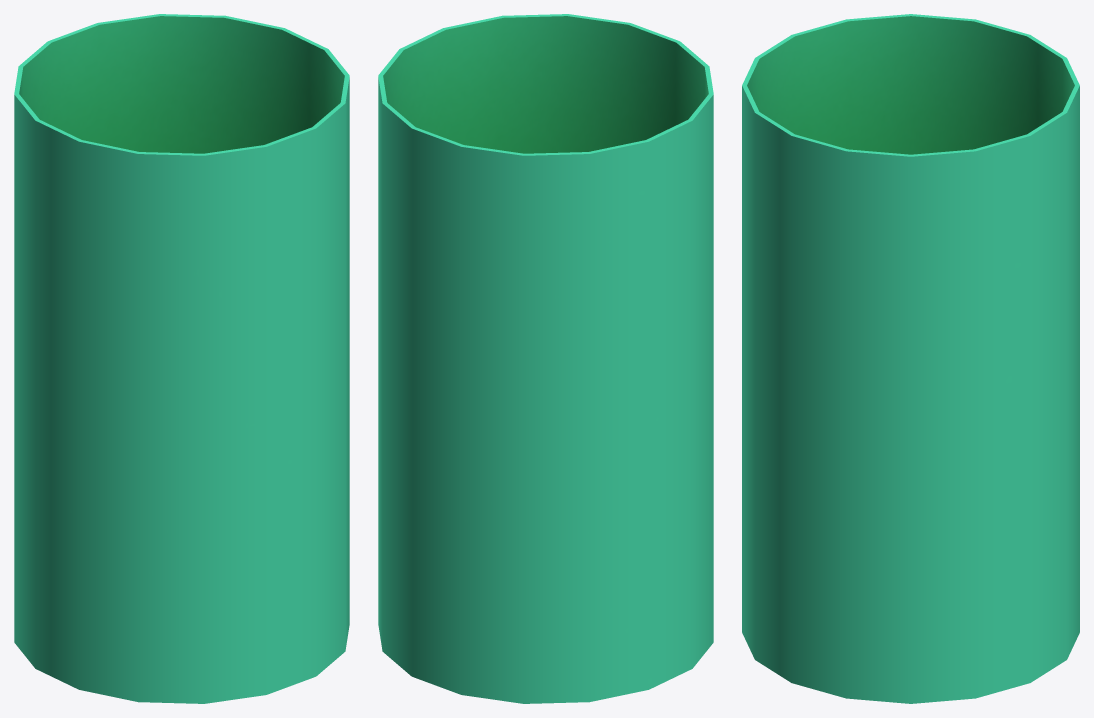
File: Glass_1.FBX
3 renders of one model, left to right at view 1: azimuth 30°, elevation 25°; view 2: azimuth 150°, elevation 25°; view 3: azimuth 270°, elevation 25°, orthographic.
Visible parts, largest first — view 1: Glass_1; view 2: Glass_1; view 3: Glass_1.
Part boxes in pixels (x1,y1,x2,y2): Glass_1: [14, 14, 349, 703]; Glass_1: [378, 14, 713, 703]; Glass_1: [742, 14, 1079, 703].
Size of the model in its own units: 1.44 by 2.57 by 1.44.
